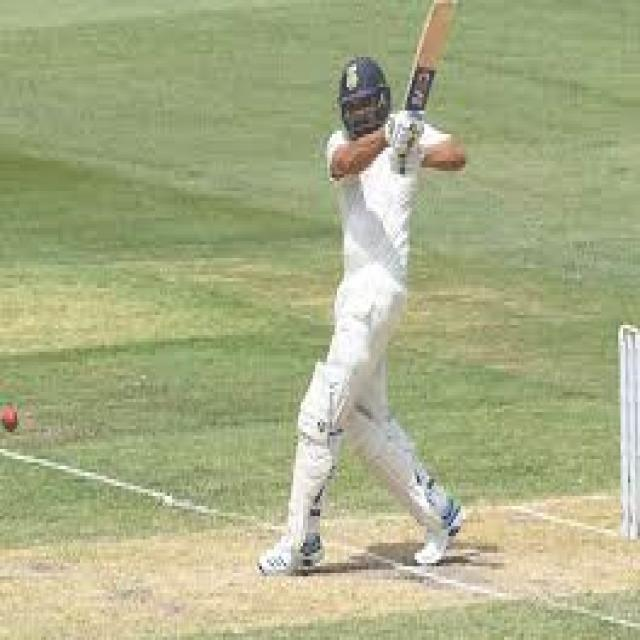toe: (428, 1, 462, 32)
